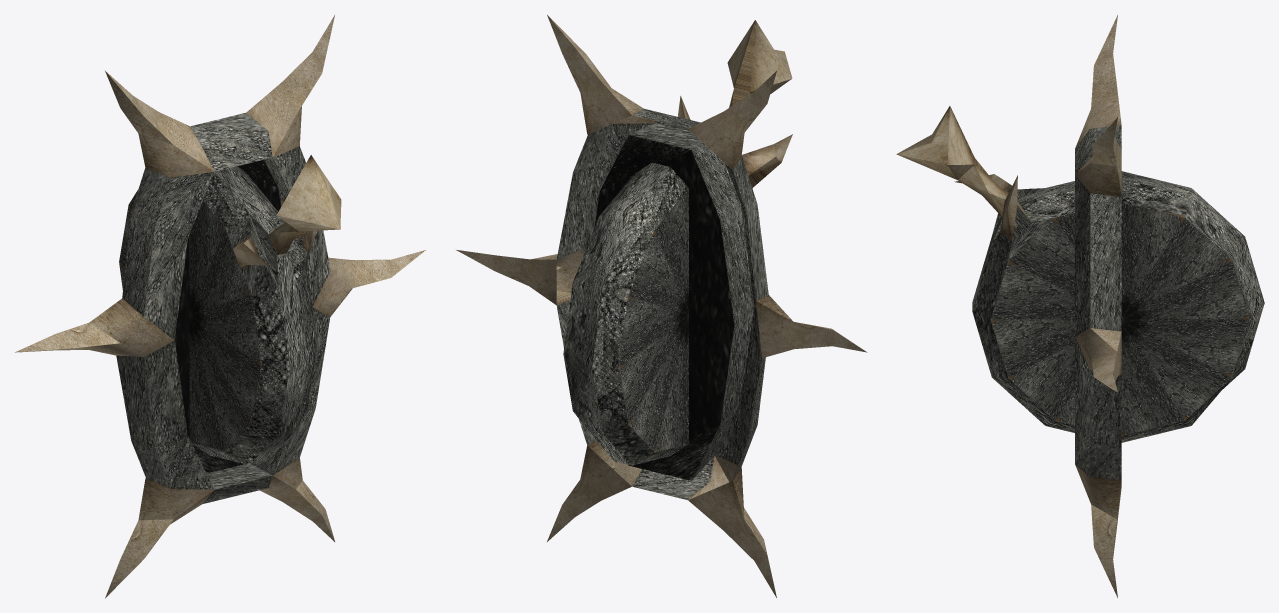
File: mm9_deco_switch03.glb
3 renders of one model, left to right at view 1: azimuth 30°, elevation 25°; view 2: azimuth 150°, elevation 25°; view 3: azimuth 270°, elevation 25°, orthographic. The views are drawn at different scales.
Visible parts, largest first — view 1: Switch03; view 2: Switch03; view 3: Switch03.
Boxes of the visible parts, bbox=[...] form: Switch03: bbox=[15, 15, 425, 598]; Switch03: bbox=[456, 15, 867, 597]; Switch03: bbox=[896, 15, 1264, 597].
Bounding box in the file's own units: 1.68 × 2.05 × 1.42.
Materials: 2 (2 with a texture image).
